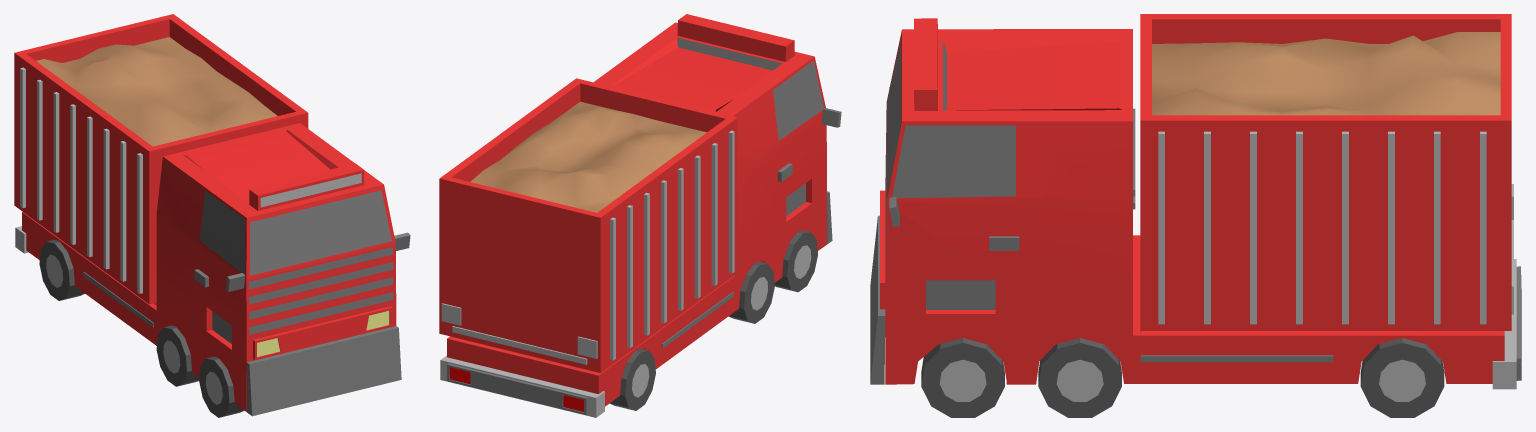
File: SM_Truck_02_04.FBX
3 views of the same model, side by side, from view 1: azimuth 30°, elevation 25°; view 2: azimuth 150°, elevation 25°; view 3: azimuth 270°, elevation 25° (orthographic). The views are drawn at different scales.
Parts seen in each view (by area): view 1: SM_Truck_02_04, SM_Wheel_RBack, SM_Wheel_RFront, SM_Wheel_RMid; view 2: SM_Truck_02_04, SM_Wheel_RMid, SM_Wheel_RBack, SM_Wheel_RFront; view 3: SM_Truck_02_04, SM_Wheel_LFront001, SM_Wheel_LBack, SM_Wheel_LMid.
Part boxes in pixels (<box>): SM_Truck_02_04: <box>14,14,410,416</box>; SM_Wheel_RBack: <box>39,240,84,300</box>; SM_Wheel_RFront: <box>199,356,244,417</box>; SM_Wheel_RMid: <box>156,325,199,386</box>; SM_Truck_02_04: <box>439,14,841,417</box>; SM_Wheel_RMid: <box>728,262,774,323</box>; SM_Wheel_RBack: <box>610,349,655,410</box>; SM_Wheel_RFront: <box>774,230,817,292</box>; SM_Truck_02_04: <box>870,14,1521,389</box>; SM_Wheel_LFront001: <box>921,338,1004,417</box>; SM_Wheel_LBack: <box>1360,338,1444,417</box>; SM_Wheel_LMid: <box>1038,338,1121,417</box>.
Bounding box in the file's own units: 1.85 × 2.21 × 4.19.
1 material, 1 textured.
